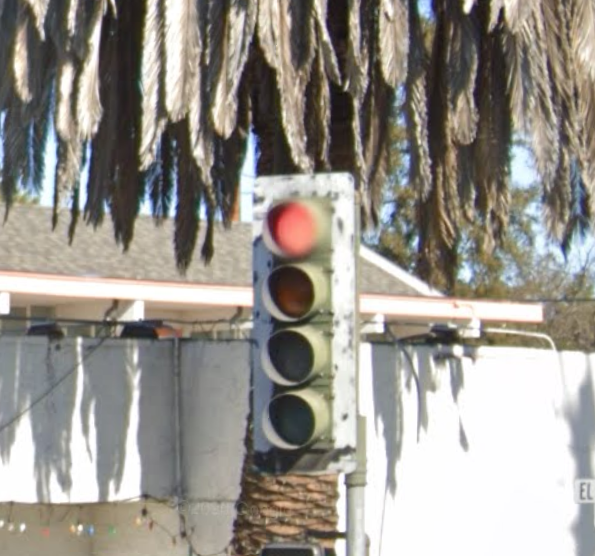red_light: (256, 181, 339, 455)
